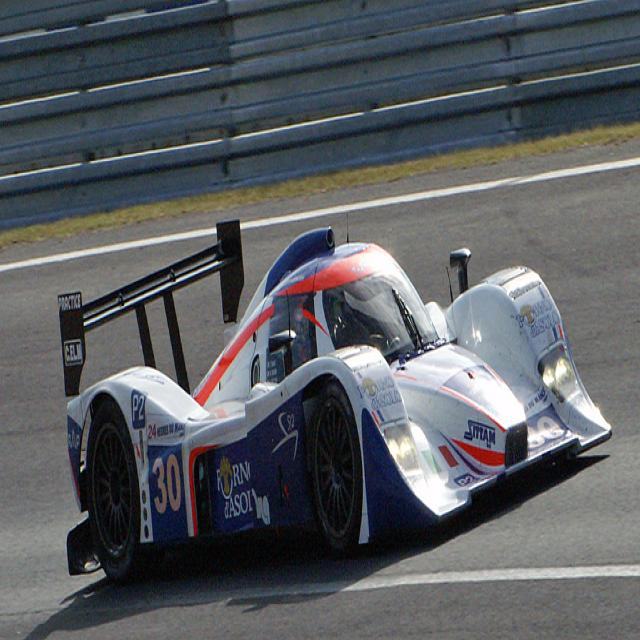car: (53, 225, 615, 591)
